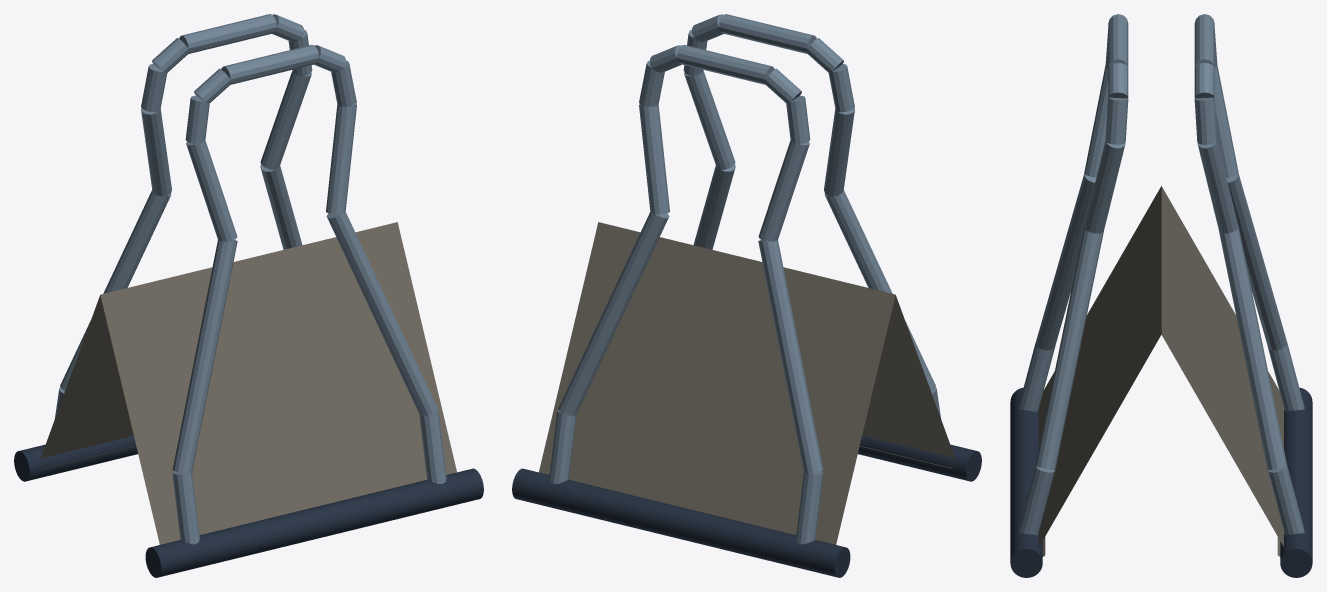
Rendered from binder.glb.
3 views of the same model, side by side, from view 1: azimuth 30°, elevation 25°; view 2: azimuth 150°, elevation 25°; view 3: azimuth 270°, elevation 25° (orthographic). The views are drawn at different scales.
Visible parts, largest first — view 1: fold 0, front lip, fold 1, wire 11, wire 19, rear lip, wire -11, wire 18, wire 12, wire -18, wire -15, wire 15 (+9 smaller); view 2: fold 1, rear lip, fold 0, wire -11, wire -19, front lip, wire 11, wire -18, wire -12, wire 18, wire 15, wire -15 (+9 smaller); view 3: fold 0, fold 1, wire -19, wire 19, rear lip, front lip, wire -11, wire 11, wire -18, wire 18, wire -110, wire 110 (+10 smaller).
Boxes of the visible parts, <box> form: fold 0: <box>100,222,456,544</box>; front lip: <box>145,468,483,577</box>; fold 1: <box>41,295,133,458</box>; wire 11: <box>172,240,237,473</box>; wire 19: <box>326,211,437,416</box>; rear lip: <box>14,436,137,481</box>; wire -11: <box>60,190,171,391</box>; wire 18: <box>326,104,356,214</box>; wire 12: <box>186,140,237,241</box>; wire -18: <box>260,70,311,169</box>; wire -15: <box>179,14,276,53</box>; wire 15: <box>221,45,319,84</box>; fold 1: <box>539,222,895,544</box>; rear lip: <box>512,468,850,577</box>; fold 0: <box>862,295,954,458</box>; wire -11: <box>758,240,823,473</box>; wire -19: <box>558,211,669,416</box>; front lip: <box>858,436,981,481</box>; wire 11: <box>824,190,935,391</box>; wire -18: <box>639,104,669,214</box>; wire -12: <box>758,140,809,241</box>; wire 18: <box>684,70,735,169</box>; wire 15: <box>719,14,816,53</box>; wire -15: <box>676,45,774,84</box>; fold 0: <box>1039,186,1161,546</box>; fold 1: <box>1161,186,1283,546</box>; wire -19: <box>1219,228,1287,469</box>; wire 19: <box>1035,228,1103,469</box>; rear lip: <box>1280,387,1312,577</box>; front lip: <box>1010,387,1042,577</box>; wire -11: <box>1226,174,1287,350</box>; wire 11: <box>1035,174,1096,350</box>; wire -18: <box>1197,141,1238,233</box>; wire 18: <box>1084,141,1125,233</box>; wire -110: <box>1267,466,1304,535</box>; wire 110: <box>1018,466,1055,535</box>.
Size of the model in its own units: 1.02 by 1.36 by 0.806.
